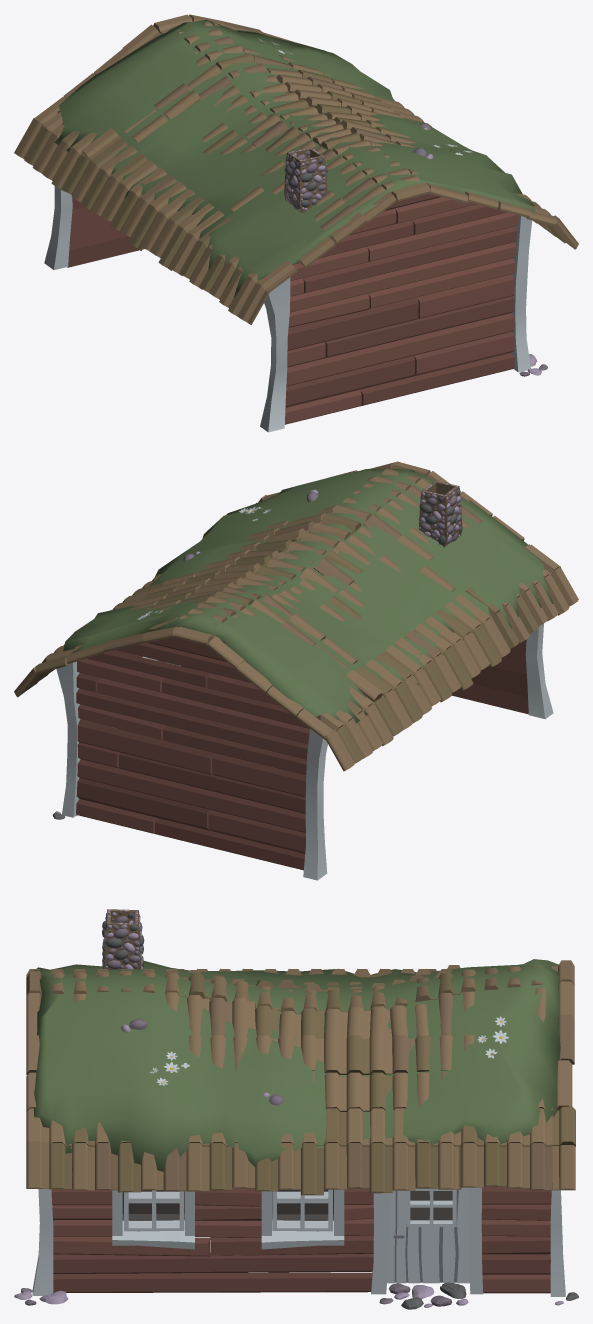
File: P_Cabin_01.fbx
The picture shows the model from 3 angles, top to bottom: view 1: azimuth 30°, elevation 25°; view 2: azimuth 150°, elevation 25°; view 3: azimuth 270°, elevation 25°; orthographic projection. The views are drawn at different scales.
Visible parts, largest first — view 1: lod1; view 2: lod1; view 3: lod1.
Part boxes in pixels (x1,y1,x2,y2): lod1: (14, 14, 578, 432); lod1: (14, 461, 578, 880); lod1: (14, 909, 578, 1309).
Size of what is drawn, in the model's own units: 882 by 589 by 1089.
1 material, 1 textured.
